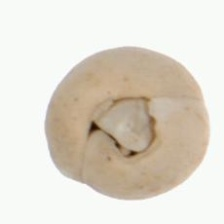L3: (81, 91, 162, 162)
L4: (44, 45, 211, 199)
